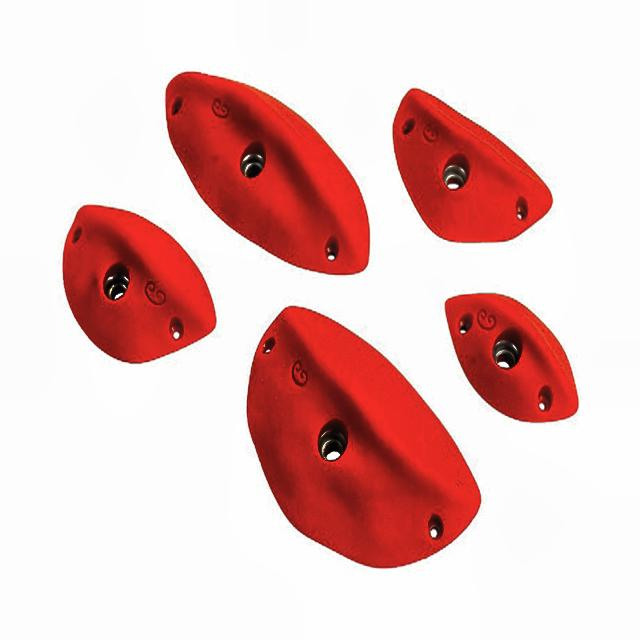Hold: (239, 308, 482, 584), (161, 68, 370, 276), (395, 84, 556, 249), (57, 202, 217, 366), (438, 288, 583, 421)
